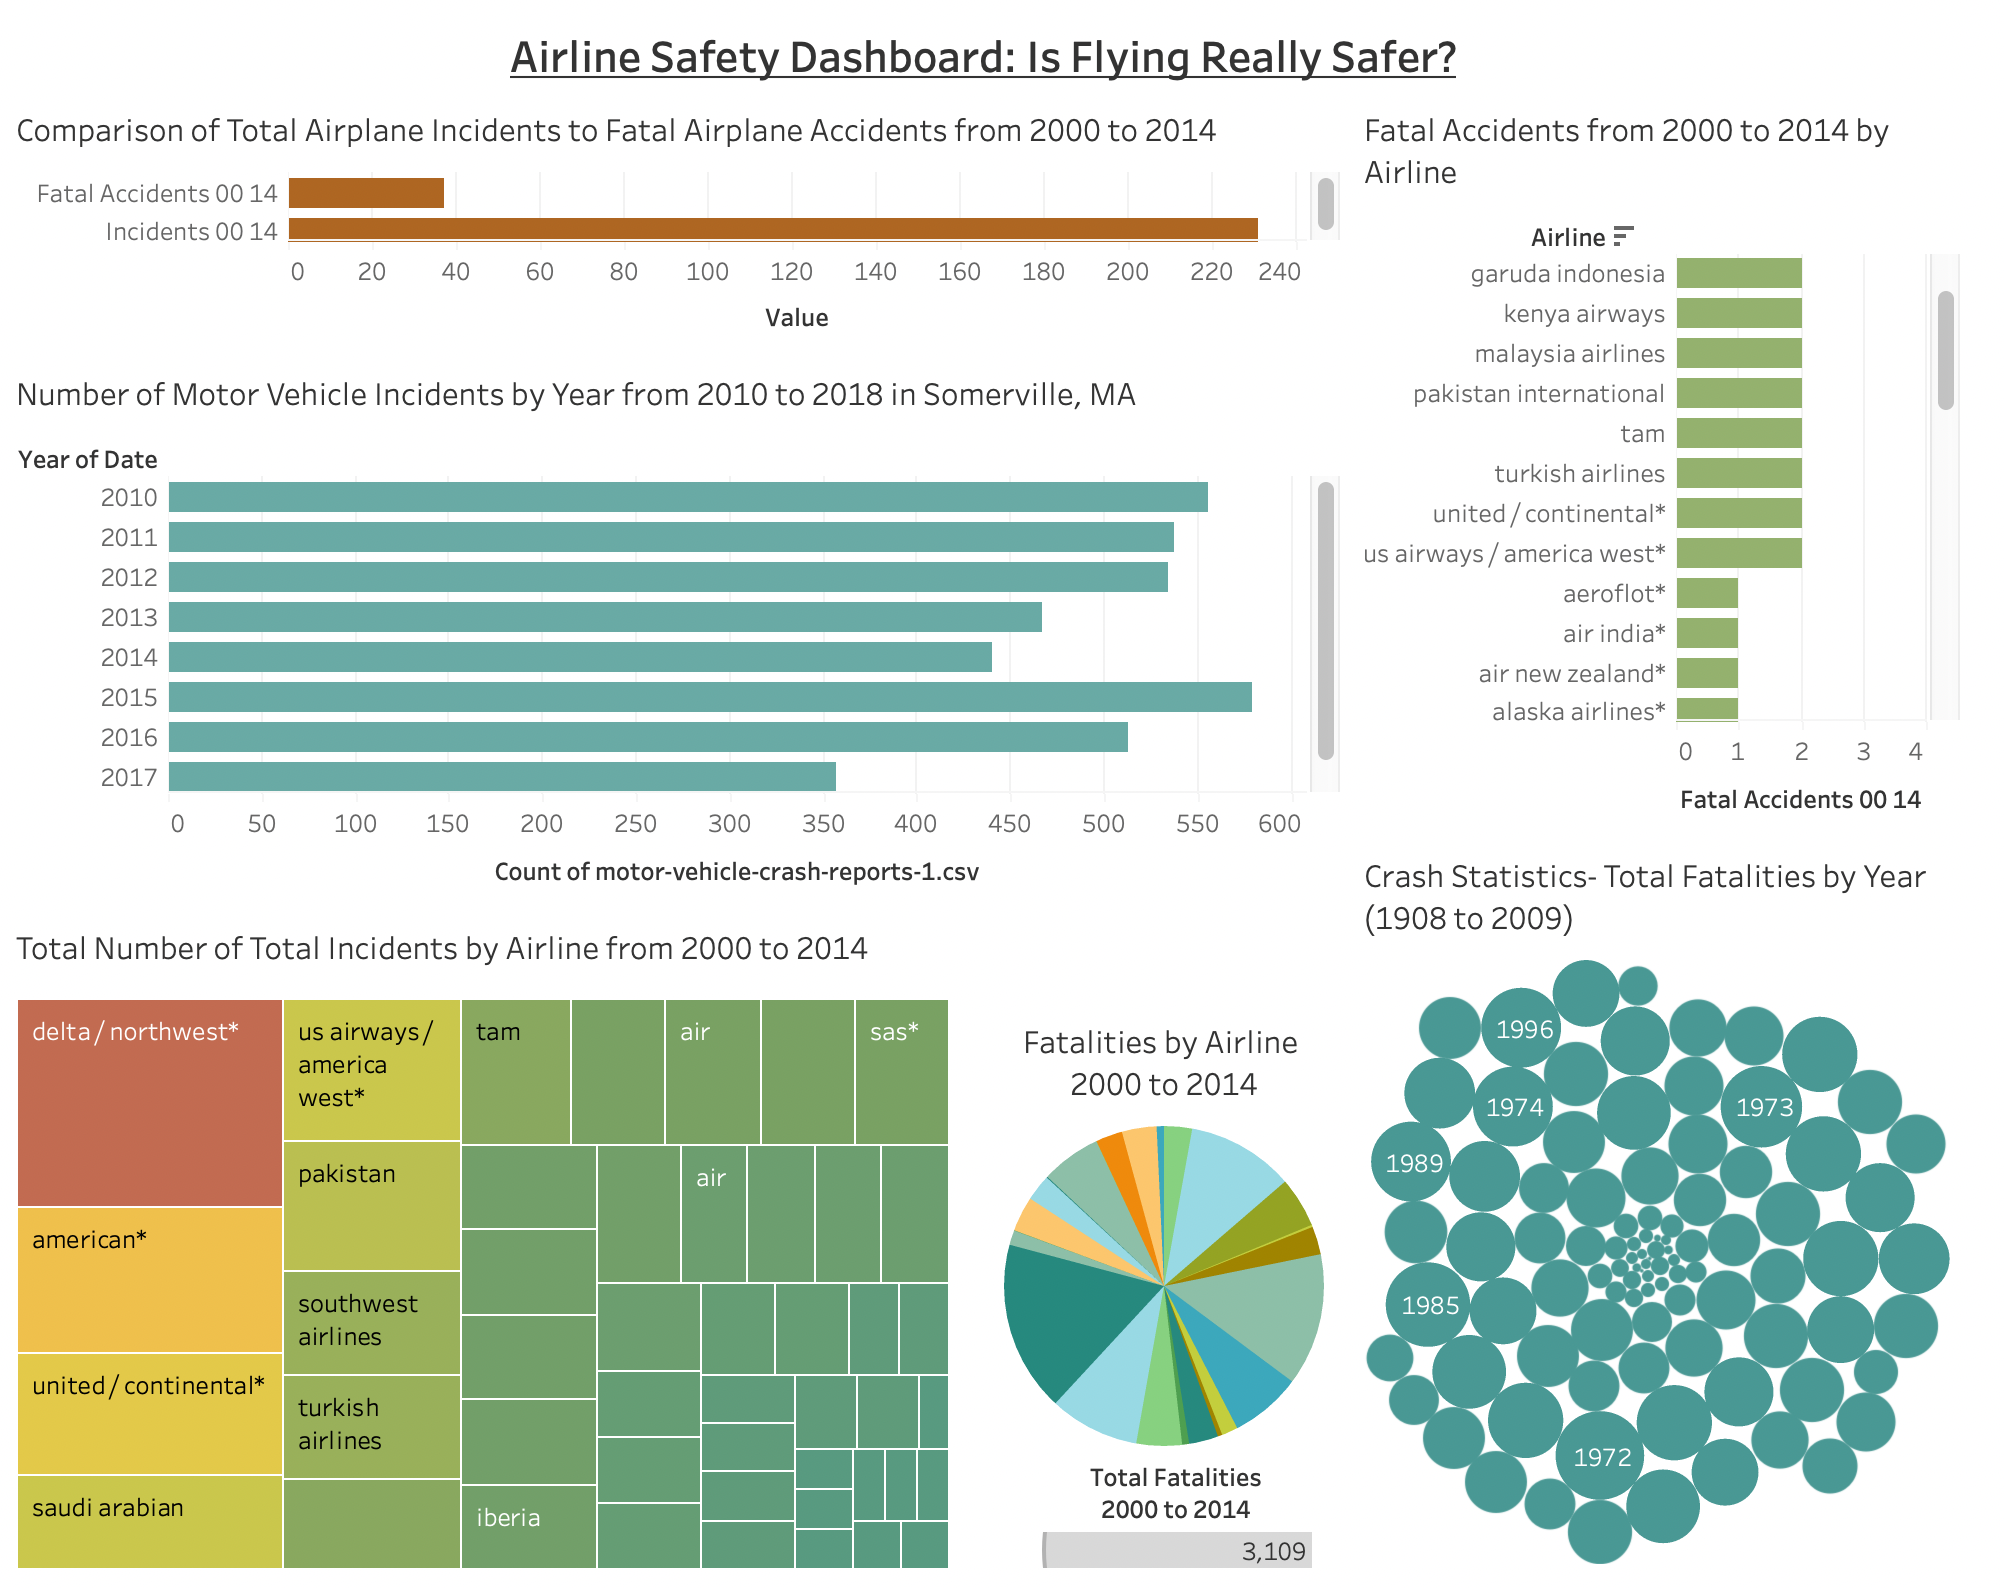

The page's visual inventory and layout, read from the dashboard file:
{"tool":"tableau","page":{"name":"Dashboard 1","canvas":[1000,800],"ordinal":0},"visuals":[{"type":"title","box":[8,8,984,37]},{"type":"worksheet","title":"Sheet 1","mark":"Automatic","box":[8,45,674,132]},{"type":"worksheet","title":"Sheet 2","mark":"Bar","rows":["airline"],"cols":["fatal_accidents_00_14"],"box":[682,45,310,373.5]},{"type":"worksheet","title":"Sheet 5","mark":"Bar","rows":["Date"],"cols":["motor-vehicle-crash-reports-1.csv_4BF8562E8B424294A9799DA072"],"box":[8,177,674,277]},{"type":"worksheet","title":"Sheet 3","mark":"Circle","box":[682,418.5,310,373.5]},{"type":"worksheet","title":"Sheet 4","mark":"Automatic","box":[8,454,674,338]},{"type":"legend","title":"Sheet 6","param":"[federated.1fwtvvl1pnrr33147j1bh1i027eo].[sum:fatalities_00_14:qk]","box":[526,729,140,58]}]}

Visuals, with their boxes in screenshot pixels (x1, y1, x2, y2), scaled from the page's 1000x800 canvas onto the 2004x1588 screenshot:
title: locate(16, 16, 1988, 89)
"Sheet 1" worksheet: locate(16, 89, 1367, 351)
"Sheet 2" worksheet (Bar marks): locate(1367, 89, 1988, 831)
"Sheet 5" worksheet (Bar marks): locate(16, 351, 1367, 901)
"Sheet 3" worksheet (Circle marks): locate(1367, 831, 1988, 1572)
"Sheet 4" worksheet: locate(16, 901, 1367, 1572)
"Sheet 6" legend: locate(1054, 1447, 1335, 1562)
